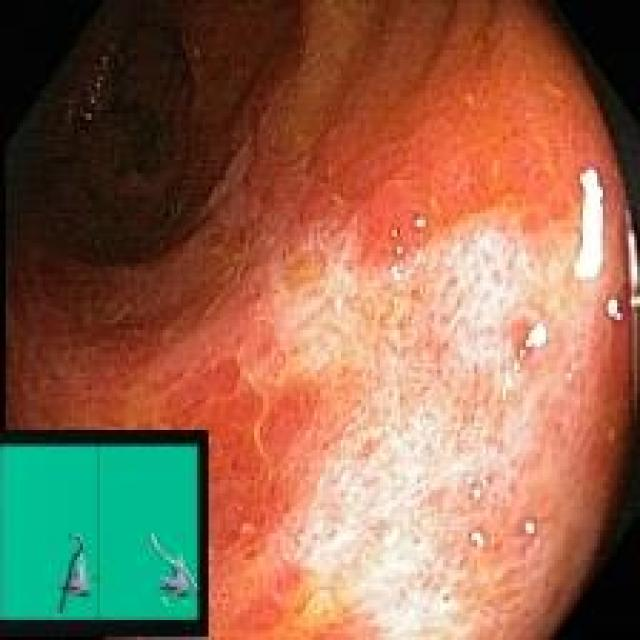ulcerative-colitis-grade-3: (9, 4, 638, 638)
